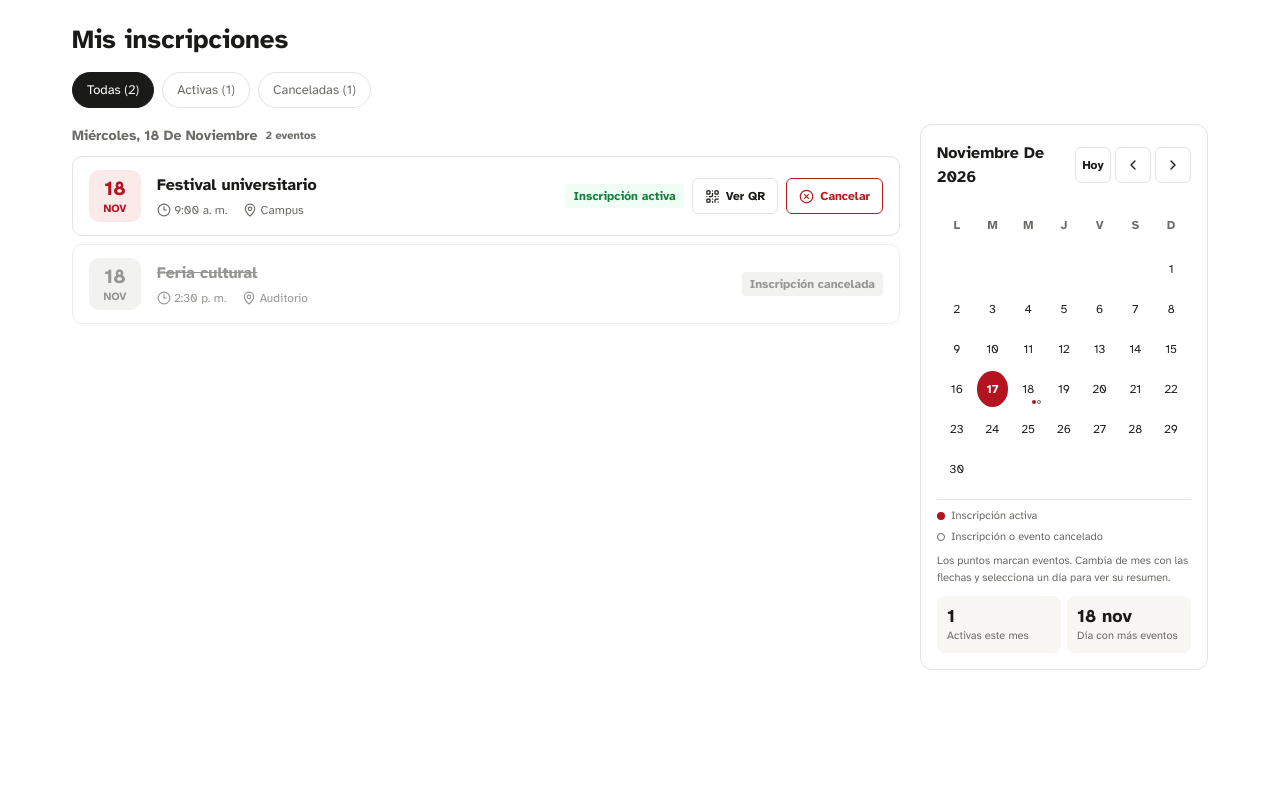
Scenario: MisInscripciones › permite cerrar la confirmación sin cancelar
Click the button with aria-label "Cancelar inscripción a Festival universitario". click: x=835, y=196
box: [786, 178, 883, 214]
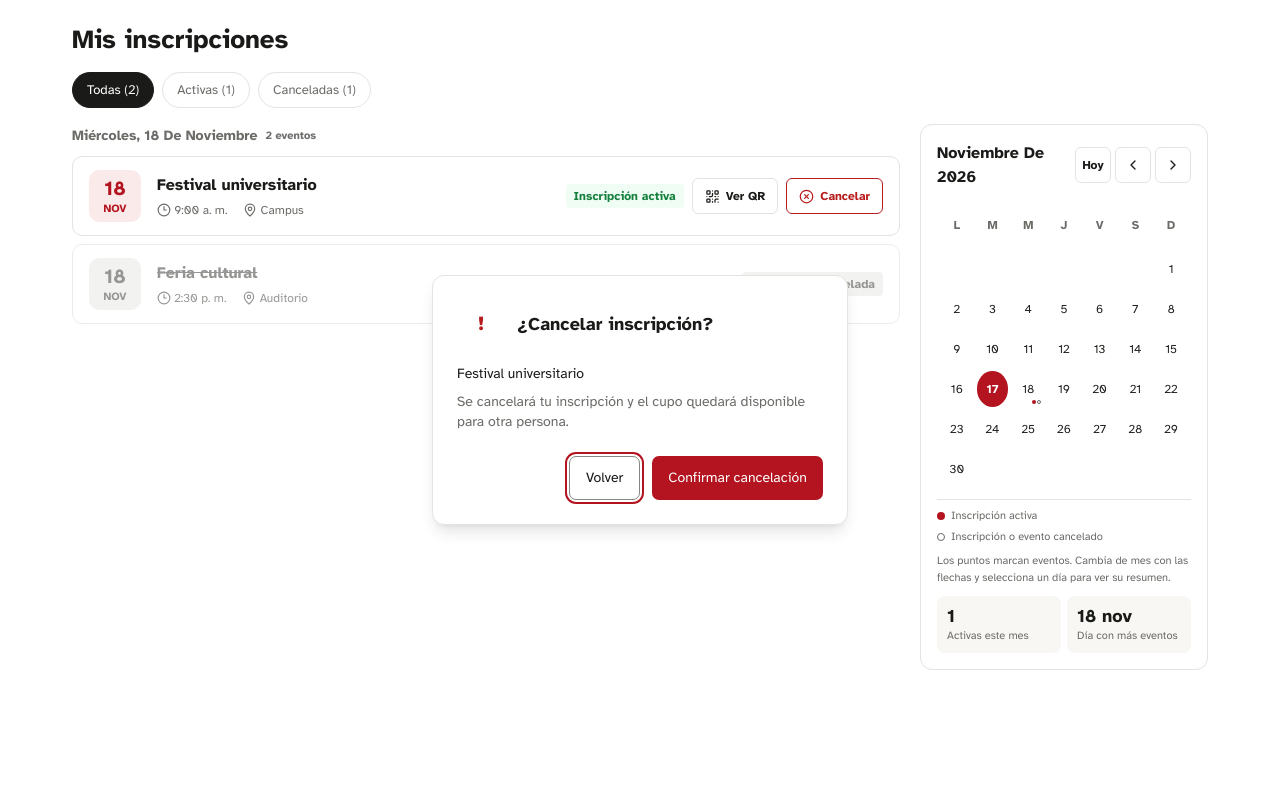
Click the button "Volver". click: x=605, y=478
box: [569, 456, 640, 500]
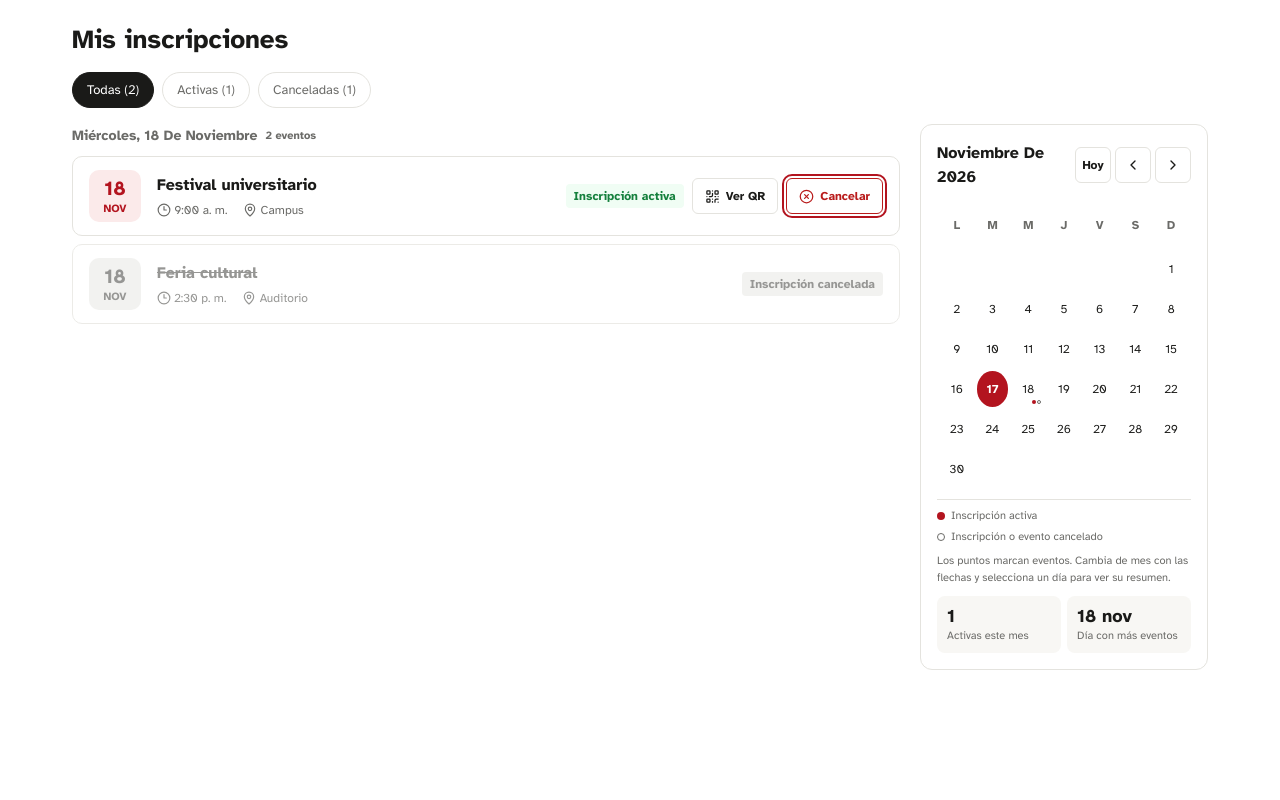
Expected: the button with aria-label "Cancelar inscripción a Festival universitario" is shown, [786, 178, 883, 214]
Result: the dialog is gone
